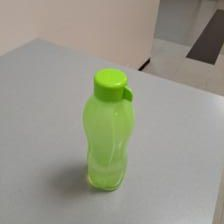bottle: (80, 66, 135, 192)
